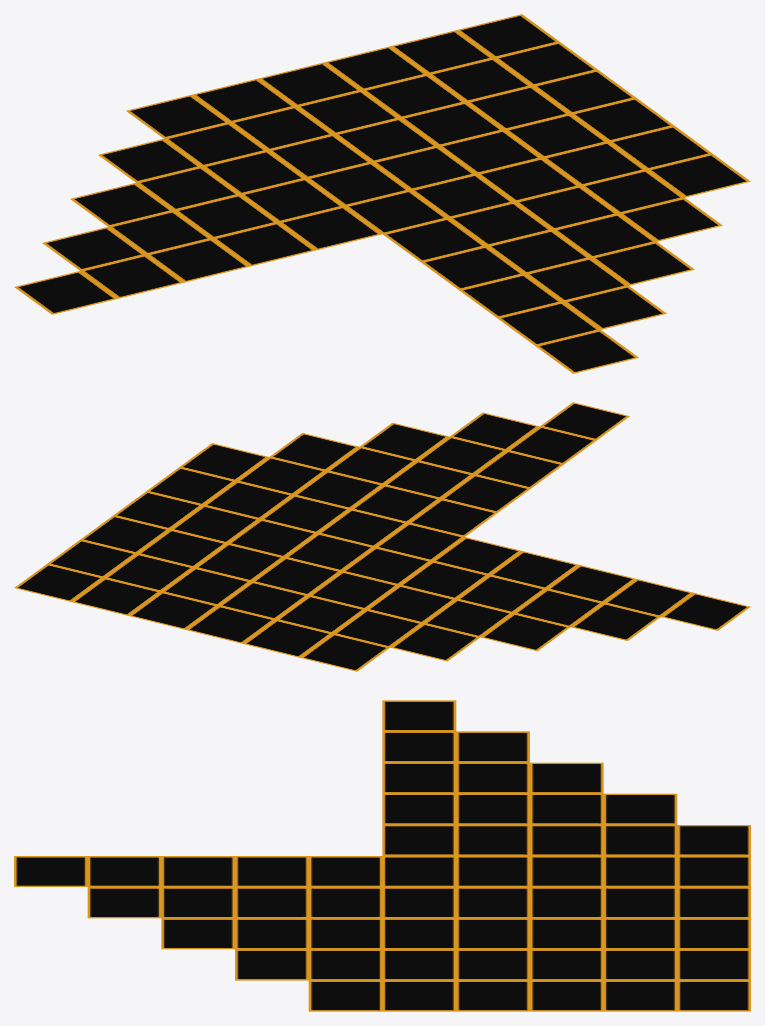
The model's file is Diagonal2.fbx.
3 renders of one model, top to bottom at view 1: azimuth 30°, elevation 25°; view 2: azimuth 150°, elevation 25°; view 3: azimuth 270°, elevation 25°, orthographic. The views are drawn at different scales.
Parts seen in each view (by area): view 1: pPlane6; view 2: pPlane6; view 3: pPlane6.
Boxes of the visible parts, left/top/right/bottom form: pPlane6: left=14, top=14, right=750, bottom=373; pPlane6: left=14, top=402, right=750, bottom=671; pPlane6: left=14, top=700, right=750, bottom=1011.
Bounding box in the file's own units: 25 × 0 × 25.
